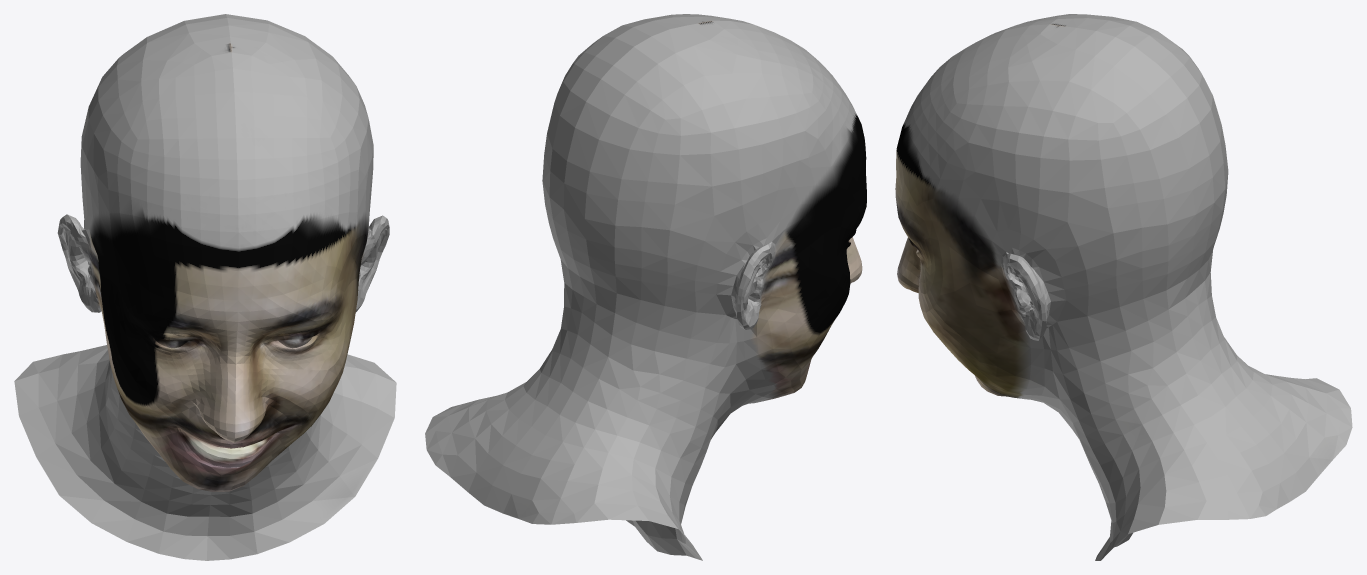
Rendered from ezgif-frame-082.obj.
The picture shows the model from 3 angles, left to right: view 1: azimuth 30°, elevation 25°; view 2: azimuth 150°, elevation 25°; view 3: azimuth 270°, elevation 25°; orthographic projection. The views are drawn at different scales.
Bounding box in the file's own units: 0.217 × 0.3239 × 0.2626.
1 material, 1 textured.
